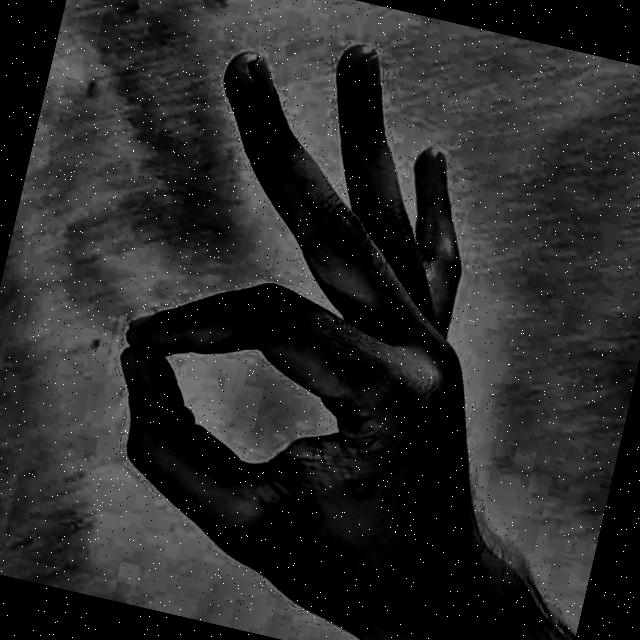Ca: (40, 0, 640, 640)
